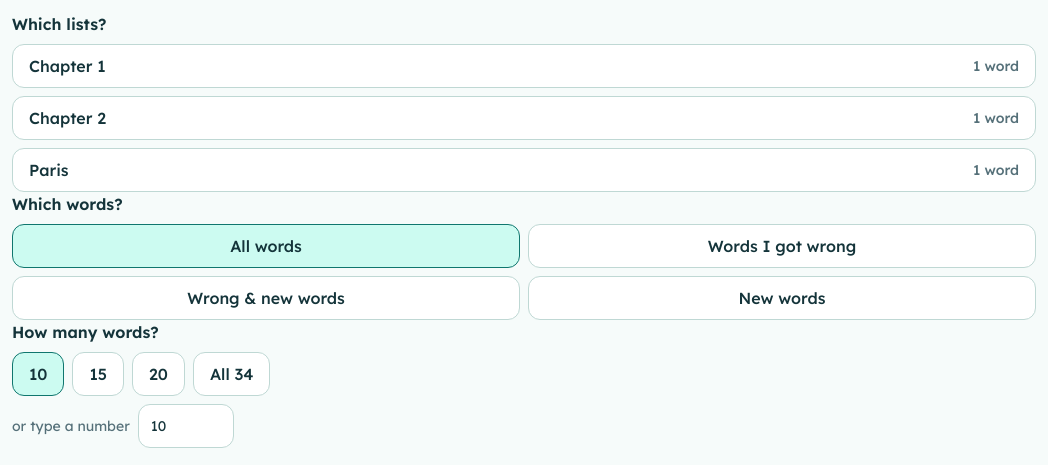
which lists › deselects, and releases the language pair at zero
The image size is (1048, 465).
Step 1. Click the button "Chapter 1 1 word" → x=67, y=66, box x1=12 y1=44 x2=1036 y2=88
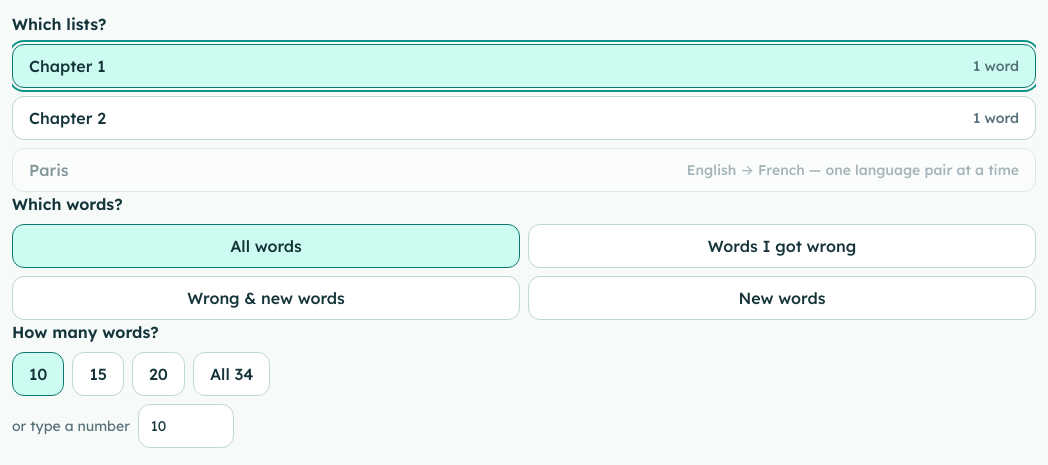
Expected: the button "Paris English → French — one language pair at a time" is disabled, x1=12 y1=148 x2=1036 y2=192
Step 2. Click the button "Chapter 1 1 word" → x=67, y=66, box x1=12 y1=44 x2=1036 y2=88
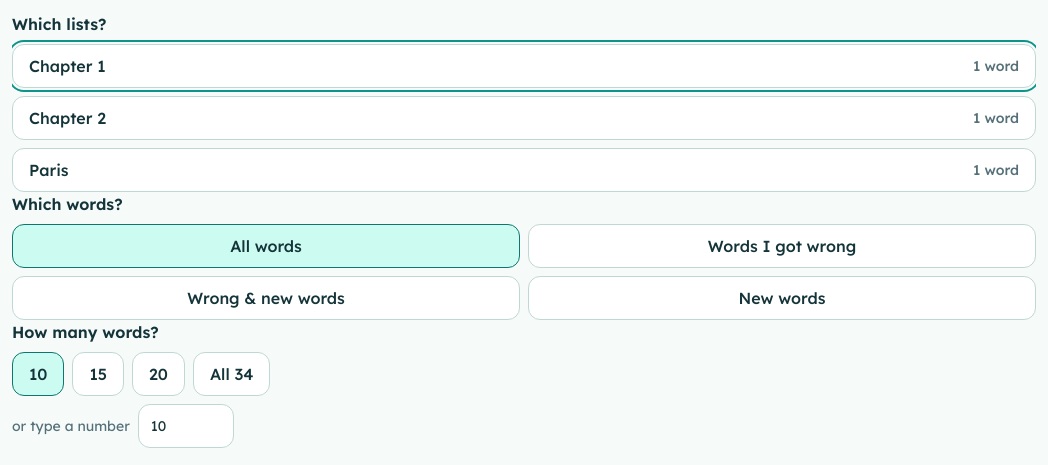
Expected: the button "Paris 1 word" is enabled, x1=12 y1=148 x2=1036 y2=192
